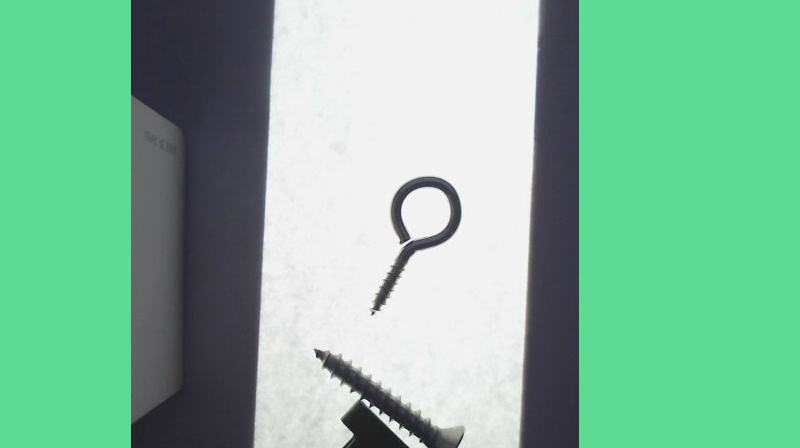O001: (367, 175, 463, 317)
O002: (244, 397, 434, 447)
S001: (311, 347, 467, 447)
